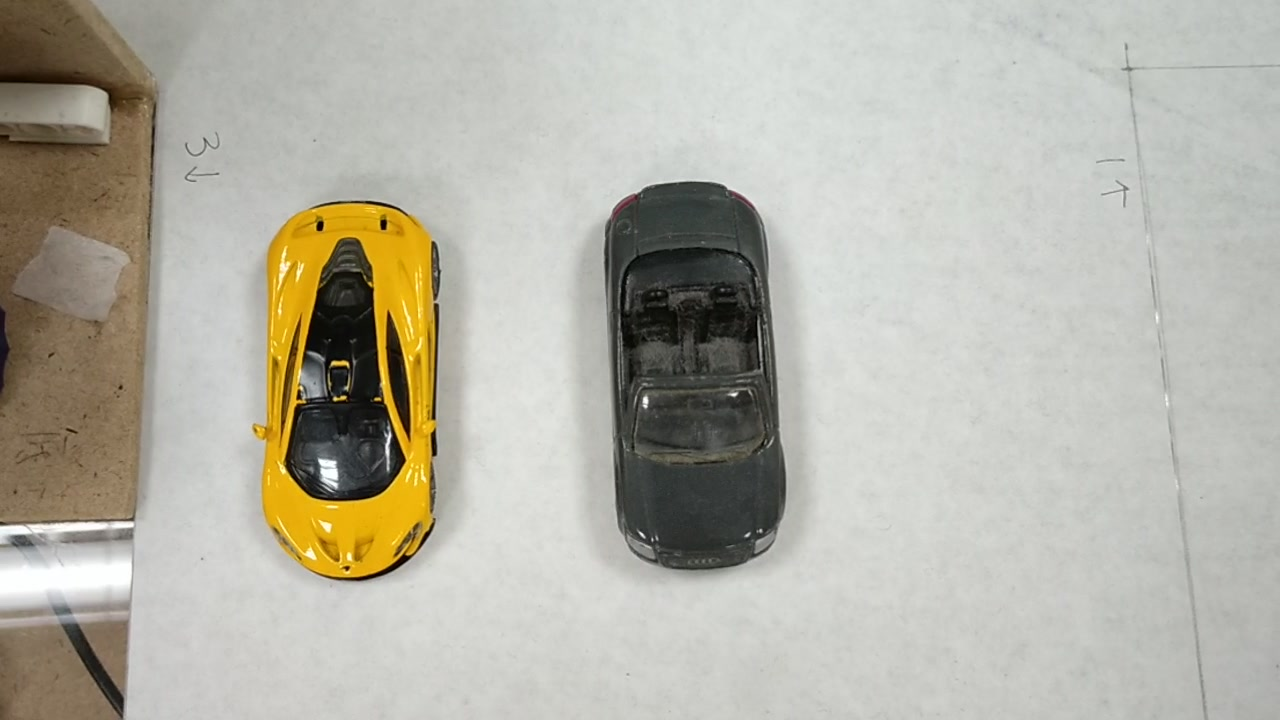car: (259, 206, 439, 563), (618, 184, 777, 548)
